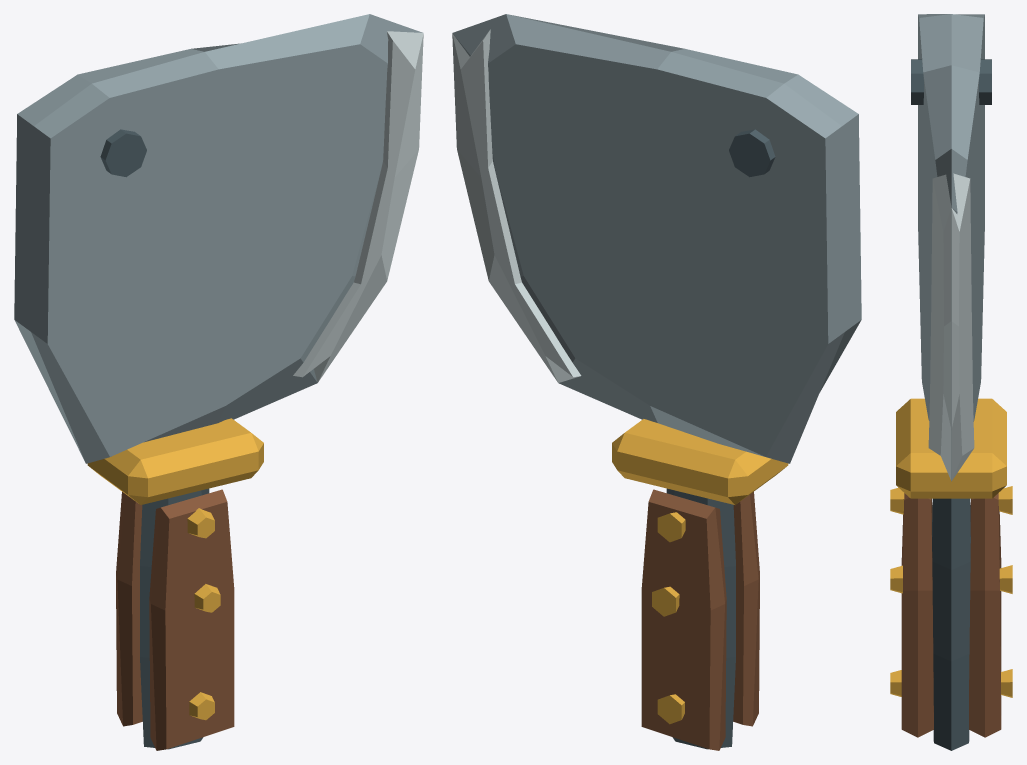
File: cleaver_viewmodel.glb
3 renders of one model, left to right at view 1: azimuth 30°, elevation 25°; view 2: azimuth 150°, elevation 25°; view 3: azimuth 270°, elevation 25°, orthographic.
Visible parts, largest first — view 1: Cleaver_Blade.001, Cleaver_Scale_1.001, Cleaver_Edge.001, Cleaver_Bolster.001, Cleaver_Scale_2.001, Cleaver_Tang.001, Cleaver_Hole.001; view 2: Cleaver_Blade.001, Cleaver_Scale_2.001, Cleaver_Edge.001, Cleaver_Bolster.001, Cleaver_Scale_1.001, Cleaver_Tang.001, Cleaver_Hole.001, Rivet_3_2.001; view 3: Cleaver_Blade.001, Cleaver_Edge.001, Cleaver_Tang.001, Cleaver_Bolster.001, Cleaver_Scale_2.001, Cleaver_Scale_1.001, Cleaver_Hole.001, Rivet_3_2.001, Rivet_2_2.003, Rivet_3_1.001, Rivet_2_1.003, Rivet_1_2.003 (+1 smaller).
Part boxes in pixels (bbox=[...]): Cleaver_Blade.001: bbox=[14, 14, 422, 463]; Cleaver_Scale_1.001: bbox=[149, 489, 234, 750]; Cleaver_Edge.001: bbox=[293, 31, 423, 382]; Cleaver_Bolster.001: bbox=[87, 418, 263, 504]; Cleaver_Scale_2.001: bbox=[116, 492, 142, 726]; Cleaver_Tang.001: bbox=[140, 488, 209, 749]; Cleaver_Hole.001: bbox=[100, 129, 146, 177]; Cleaver_Blade.001: bbox=[452, 14, 861, 463]; Cleaver_Scale_2.001: bbox=[641, 489, 726, 750]; Cleaver_Edge.001: bbox=[452, 29, 581, 382]; Cleaver_Bolster.001: bbox=[612, 419, 788, 504]; Cleaver_Scale_1.001: bbox=[733, 492, 759, 726]; Cleaver_Tang.001: bbox=[666, 488, 735, 749]; Cleaver_Hole.001: bbox=[729, 129, 775, 177]; Rivet_3_2.001: bbox=[657, 512, 685, 542]; Cleaver_Blade.001: bbox=[918, 14, 984, 481]; Cleaver_Edge.001: bbox=[928, 173, 974, 480]; Cleaver_Tang.001: bbox=[932, 498, 970, 750]; Cleaver_Bolster.001: bbox=[896, 398, 1006, 498]; Cleaver_Scale_2.001: bbox=[969, 493, 1001, 737]; Cleaver_Scale_1.001: bbox=[901, 493, 933, 737]; Cleaver_Hole.001: bbox=[911, 59, 991, 104]; Rivet_3_2.001: bbox=[998, 486, 1012, 514]; Rivet_2_2.003: bbox=[999, 565, 1012, 593]; Rivet_3_1.001: bbox=[890, 487, 904, 514]; Rivet_2_1.003: bbox=[890, 565, 902, 593]; Rivet_1_2.003: bbox=[1001, 669, 1012, 697].
Bounding box in the file's own units: 0.678 × 1.12 × 0.182.
